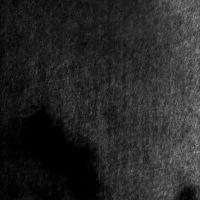patches: (40, 0, 152, 66), (22, 109, 101, 196), (0, 116, 69, 200)
